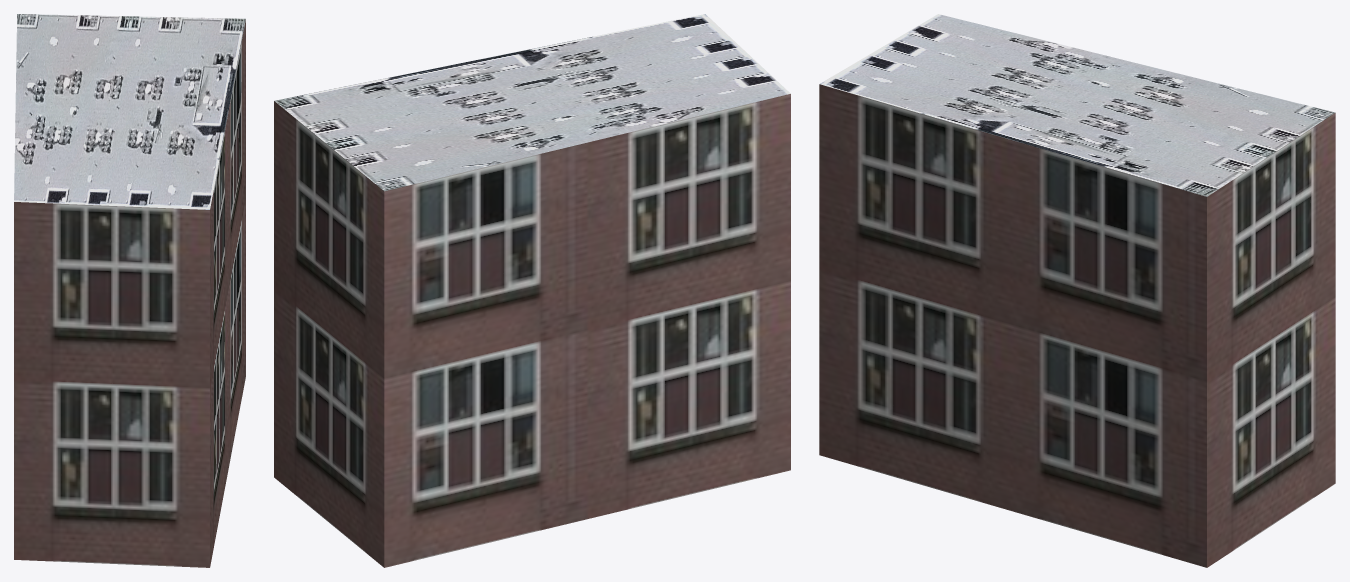
The model's file is ResTex__3278.fbx.
The picture shows the model from 3 angles, left to right: view 1: azimuth 30°, elevation 25°; view 2: azimuth 150°, elevation 25°; view 3: azimuth 270°, elevation 25°; orthographic projection. The views are drawn at different scales.
Parts seen in each view (by area): view 1: CityEngineMaterial_12_m, CityEngineMaterial_4_m; view 2: CityEngineMaterial_12_m, CityEngineMaterial_4_m; view 3: CityEngineMaterial_12_m, CityEngineMaterial_4_m.
Part boxes in pixels (<box>): CityEngineMaterial_12_m: <box>14,19,245,567</box>; CityEngineMaterial_4_m: <box>14,14,245,209</box>; CityEngineMaterial_12_m: <box>274,94,790,567</box>; CityEngineMaterial_4_m: <box>274,14,790,191</box>; CityEngineMaterial_12_m: <box>819,84,1335,567</box>; CityEngineMaterial_4_m: <box>819,14,1335,196</box>.
Size of the model in its own units: 6.34 by 6 by 7.57.
2 materials, 2 textured.
